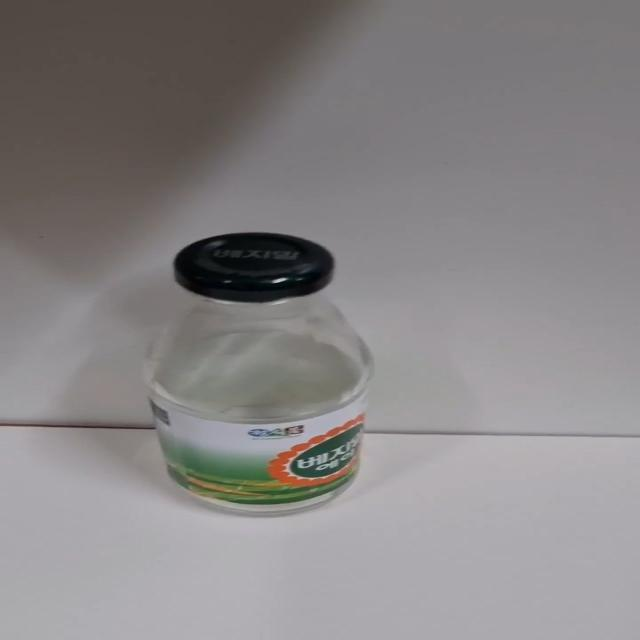Glass: (142, 228, 376, 510)
